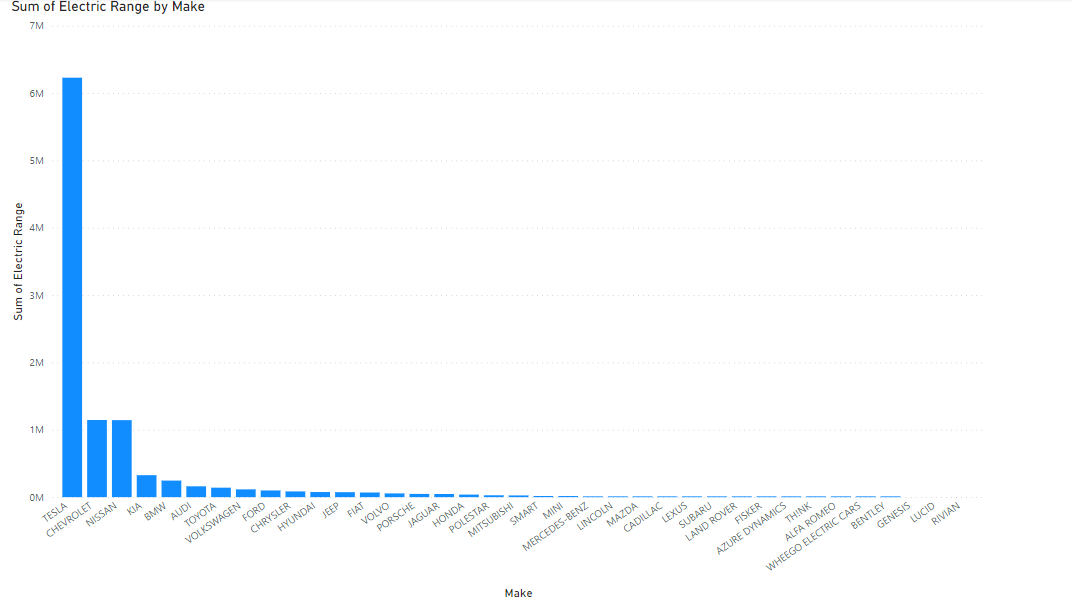

The dashboard page shown, as its layout file describes it:
{"tool":"powerbi","page":{"name":"Page 4","canvas":[1280,720],"ordinal":3},"visuals":[{"type":"clusteredColumnChart","fields":{"Y":["Sum(Electric_Vehicle_Population_Data.Electric Range)"],"Category":["Electric_Vehicle_Population_Data.Make"]},"box":[9.5,0,1167.1,720.2],"z":0}]}

Visuals, with their boxes in screenshot pixels (x1, y1, x2, y2), scaled from the page's 1280x720 canvas onto the 1072x602 screenshot:
clusteredColumnChart - Sum(Electric_Vehicle_Population_Data.Electric Range) x Electric_Vehicle_Population_Data.Make: Rect(8, 0, 985, 601)
